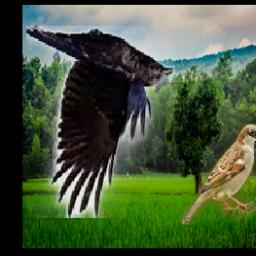Crow: (25, 26, 174, 218)
Sparrow: (181, 124, 256, 225)
